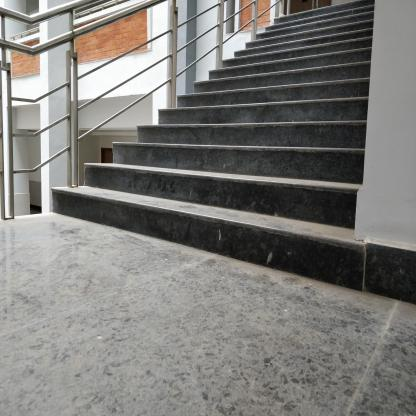stairs: (273, 24, 351, 297)
